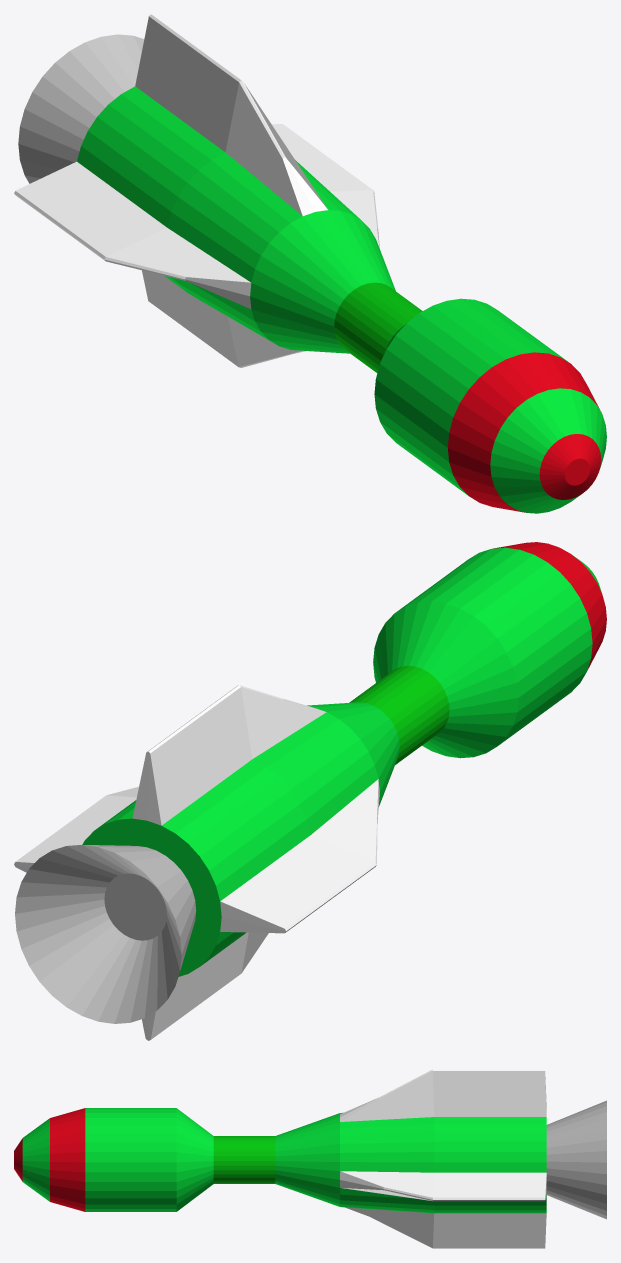
The model's file is Rocket2.fbx.
The picture shows the model from 3 angles, top to bottom: view 1: azimuth 30°, elevation 25°; view 2: azimuth 150°, elevation 25°; view 3: azimuth 270°, elevation 25°; orthographic projection. The views are drawn at different scales.
Visible parts, largest first — view 1: Cylinder.001; view 2: Cylinder.001; view 3: Cylinder.001.
Boxes of the visible parts, x1=… form: Cylinder.001: x1=14, y1=14, x2=606, y2=513; Cylinder.001: x1=14, y1=542, x2=606, y2=1040; Cylinder.001: x1=14, y1=1069, x2=606, y2=1248.
Size of the model in its own units: 0.6505 by 0.6616 by 1.98.
